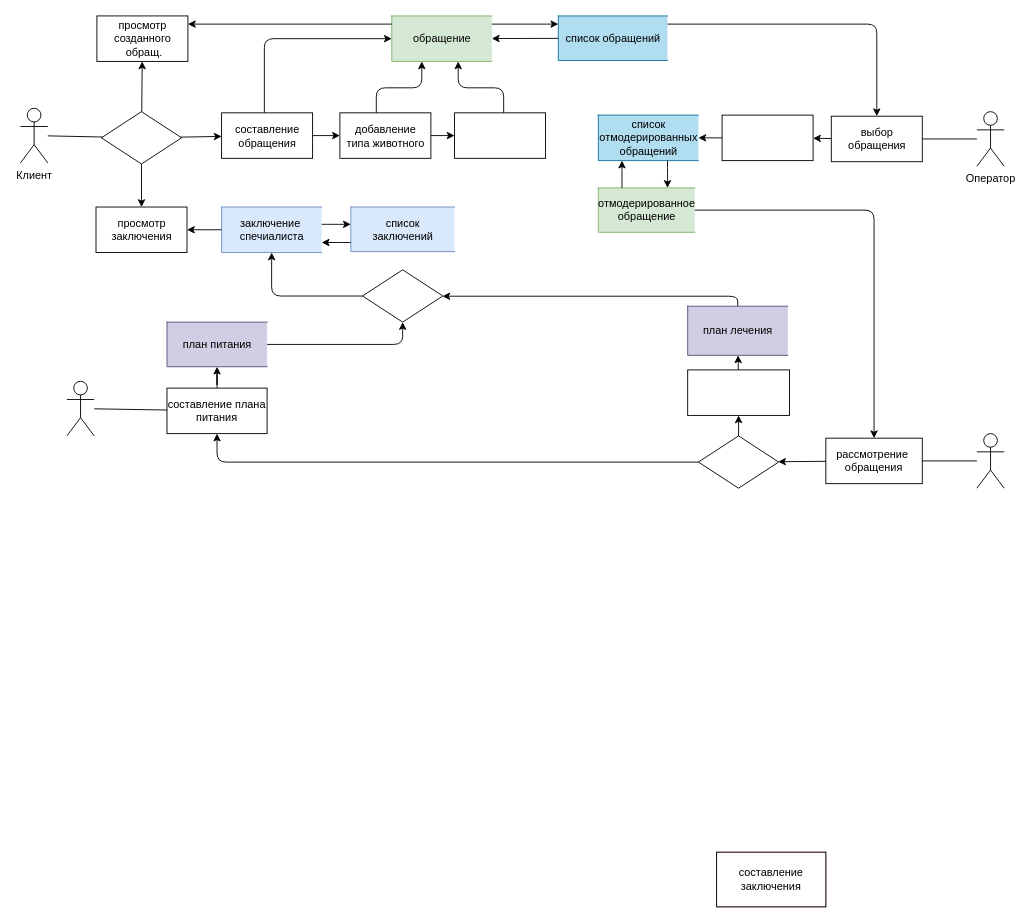
Some shapes in this 1030 by 923 pixel diagram are drawn without their labels. Each missing label, with the centre of its shape:
"вет. врач" belongs at (x=990, y=460).
"вет. диетолог" belongs at (x=80, y=408).
"добавление описания проблемы" belongs at (x=500, y=135).
"модерация обращения" belongs at (x=767, y=137).
"составление плана лечения" belongs at (x=738, y=392).
